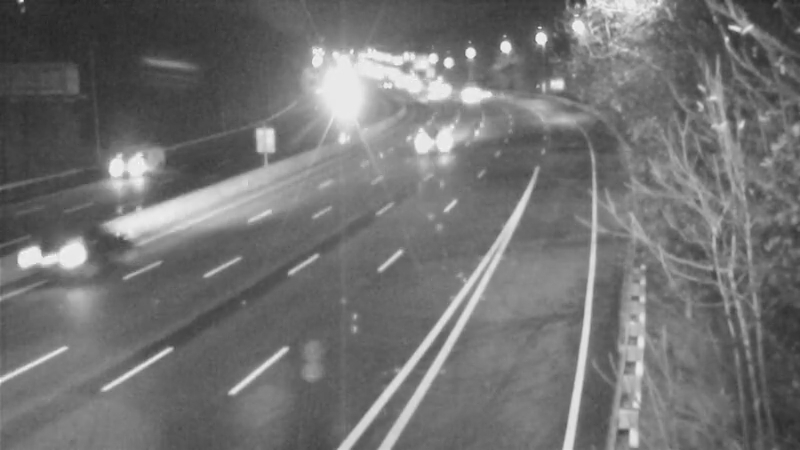vehicle: (15, 218, 95, 298), (93, 123, 173, 203), (445, 71, 495, 121), (463, 68, 513, 118), (404, 121, 454, 171)
